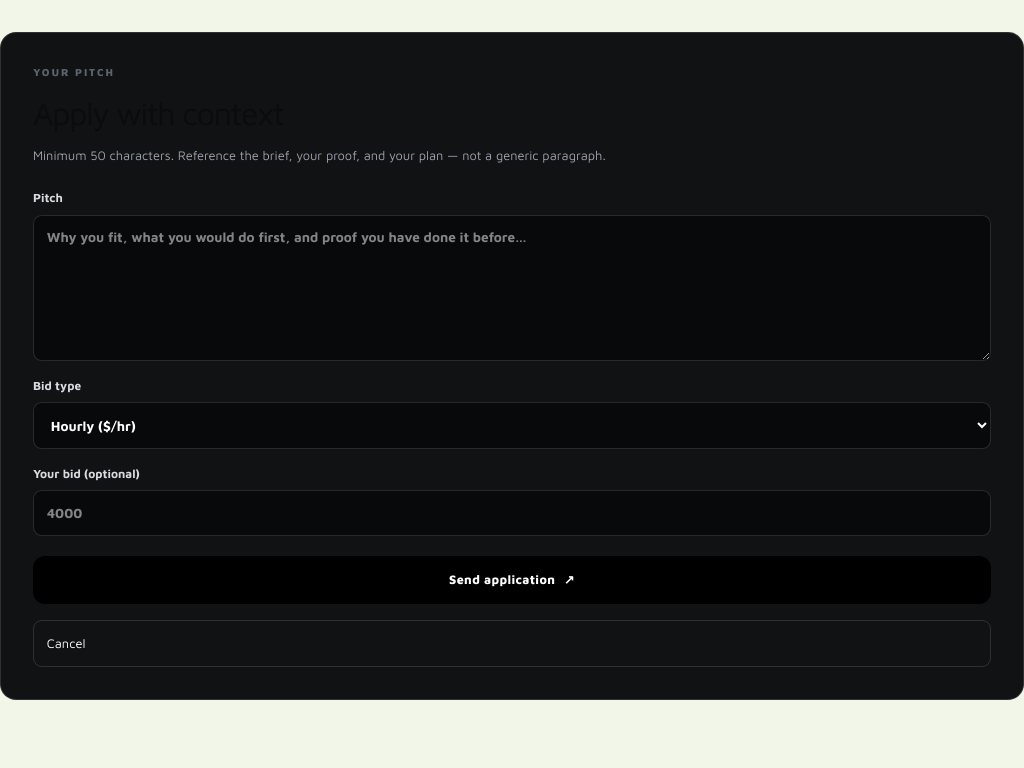
Scenario: ApplyModal › surfaces a server rejection and does not report success
The width and height of the screenshot is (1024, 768).
In the text box with placeholder "Why you fit": (512, 288) top-left (33, 215), bottom-right (991, 361), type "I have shipped this exact scope three times; here is my plan for week one and the proof."
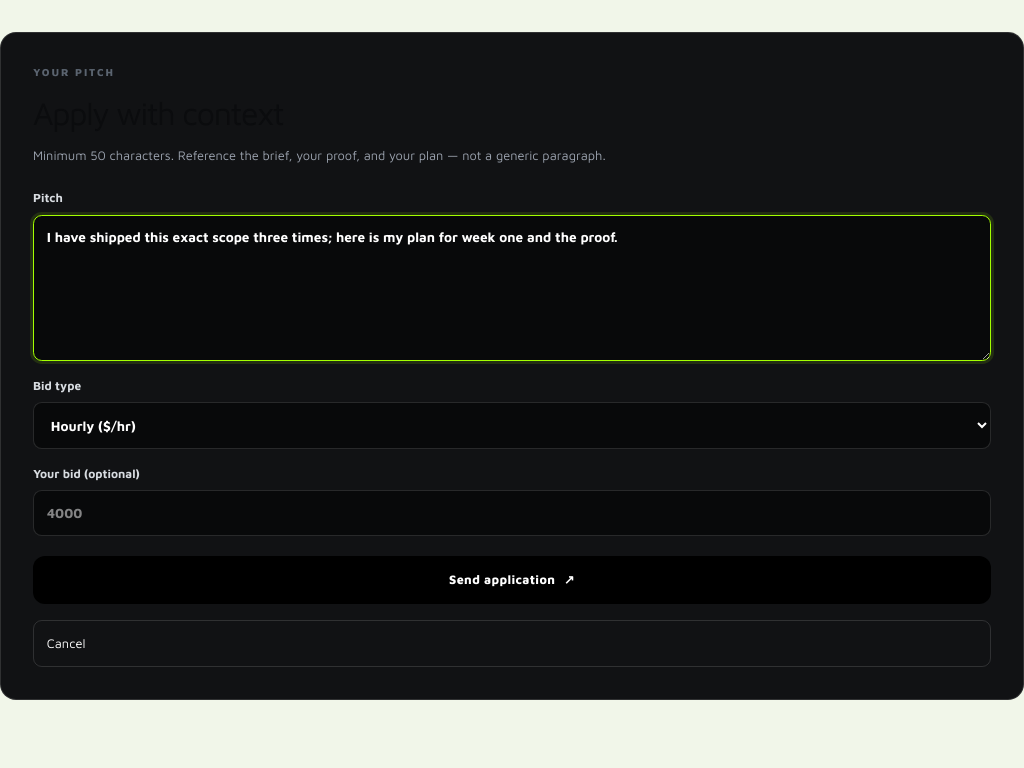
Click the button "Send application ↗": (512, 580) top-left (33, 556), bottom-right (991, 604)
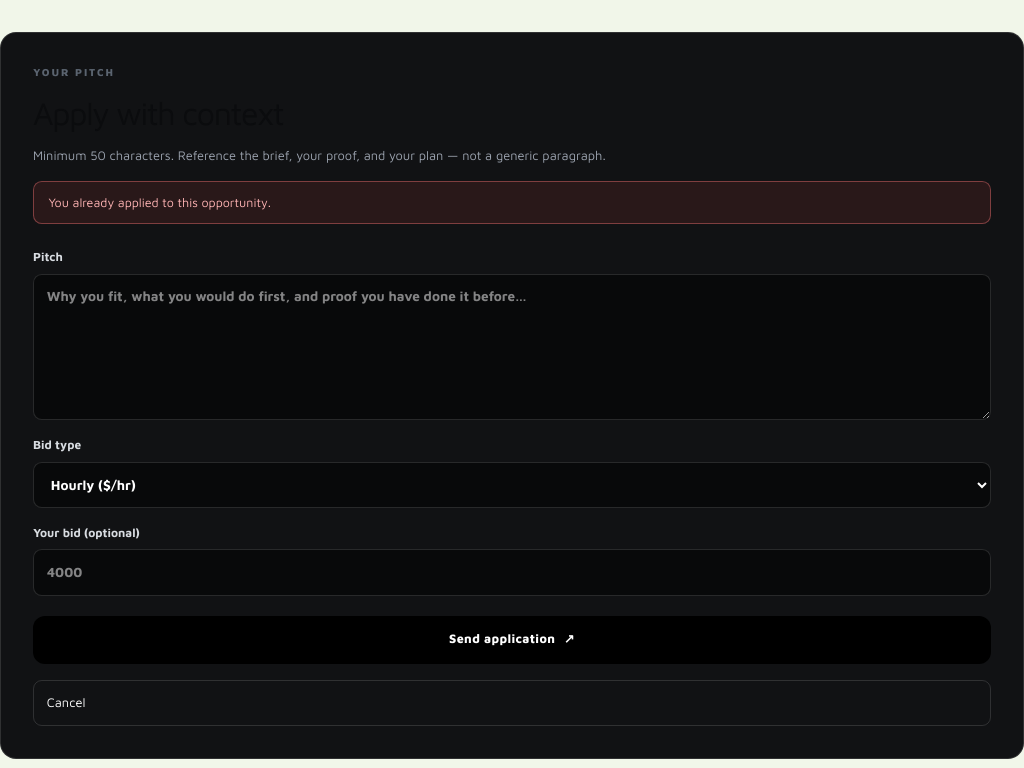
Expected: the text "You already applied to this opportunity." is shown, top-left (33, 181), bottom-right (991, 224)
